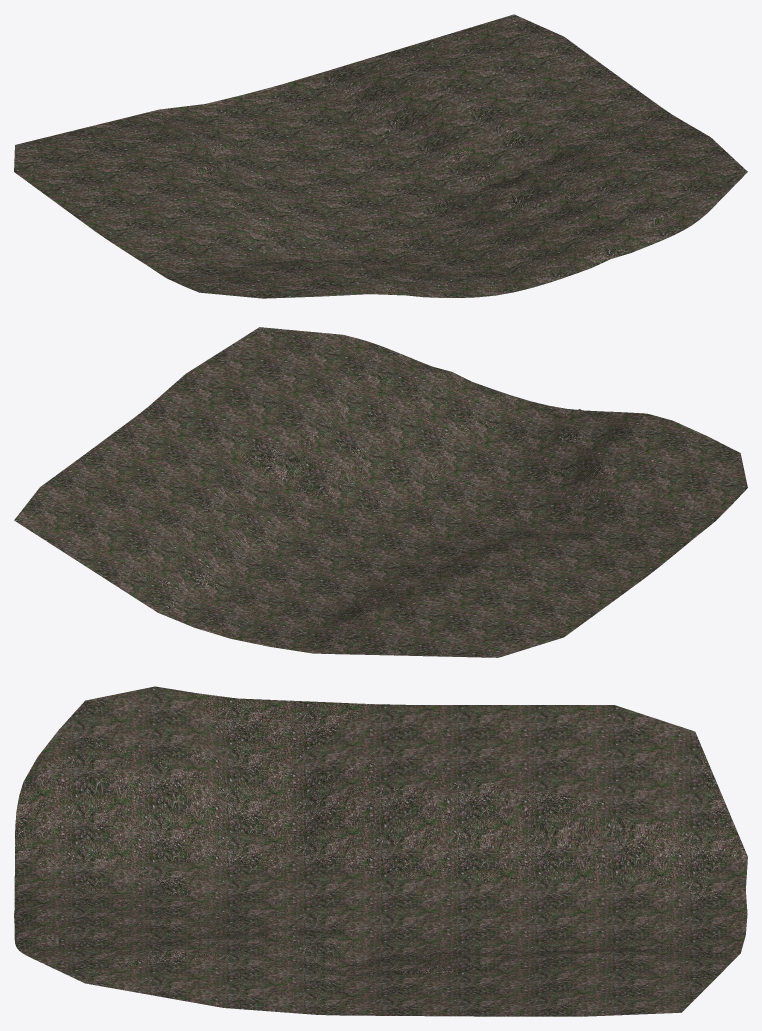
File: Ground.fbx
3 renders of one model, top to bottom at view 1: azimuth 30°, elevation 25°; view 2: azimuth 150°, elevation 25°; view 3: azimuth 270°, elevation 25°, orthographic. The views are drawn at different scales.
Parts seen in each view (by area): view 1: Ground; view 2: Ground; view 3: Ground.
Boxes of the visible parts, box(x1,y1,x2,y2) form: Ground: box(14, 14, 747, 298); Ground: box(14, 327, 747, 657); Ground: box(14, 686, 747, 1016).
Bounding box in the file's own units: 2148 × 240 × 2042.
1 material, 1 textured.
